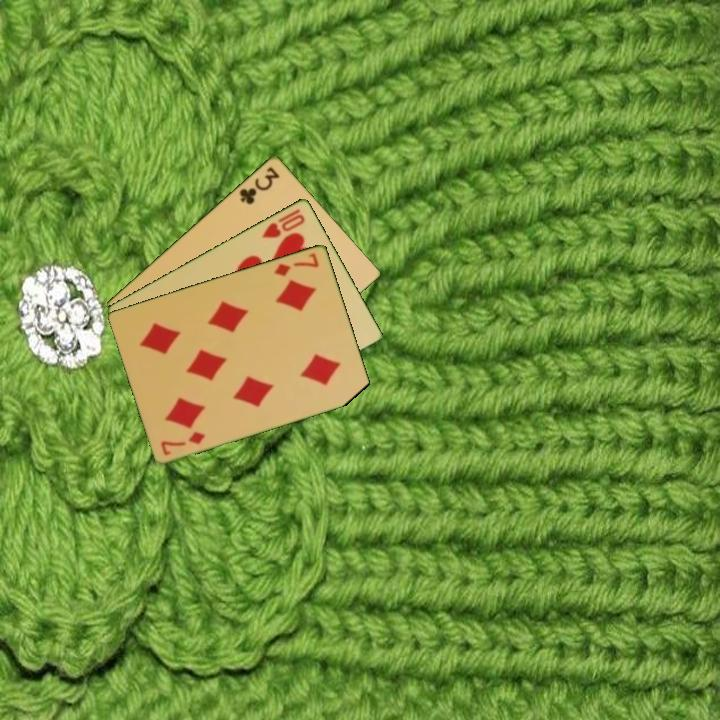10h: (259, 205, 308, 241)
3c: (236, 163, 283, 207)
7d: (157, 427, 208, 458), (271, 249, 322, 279)
